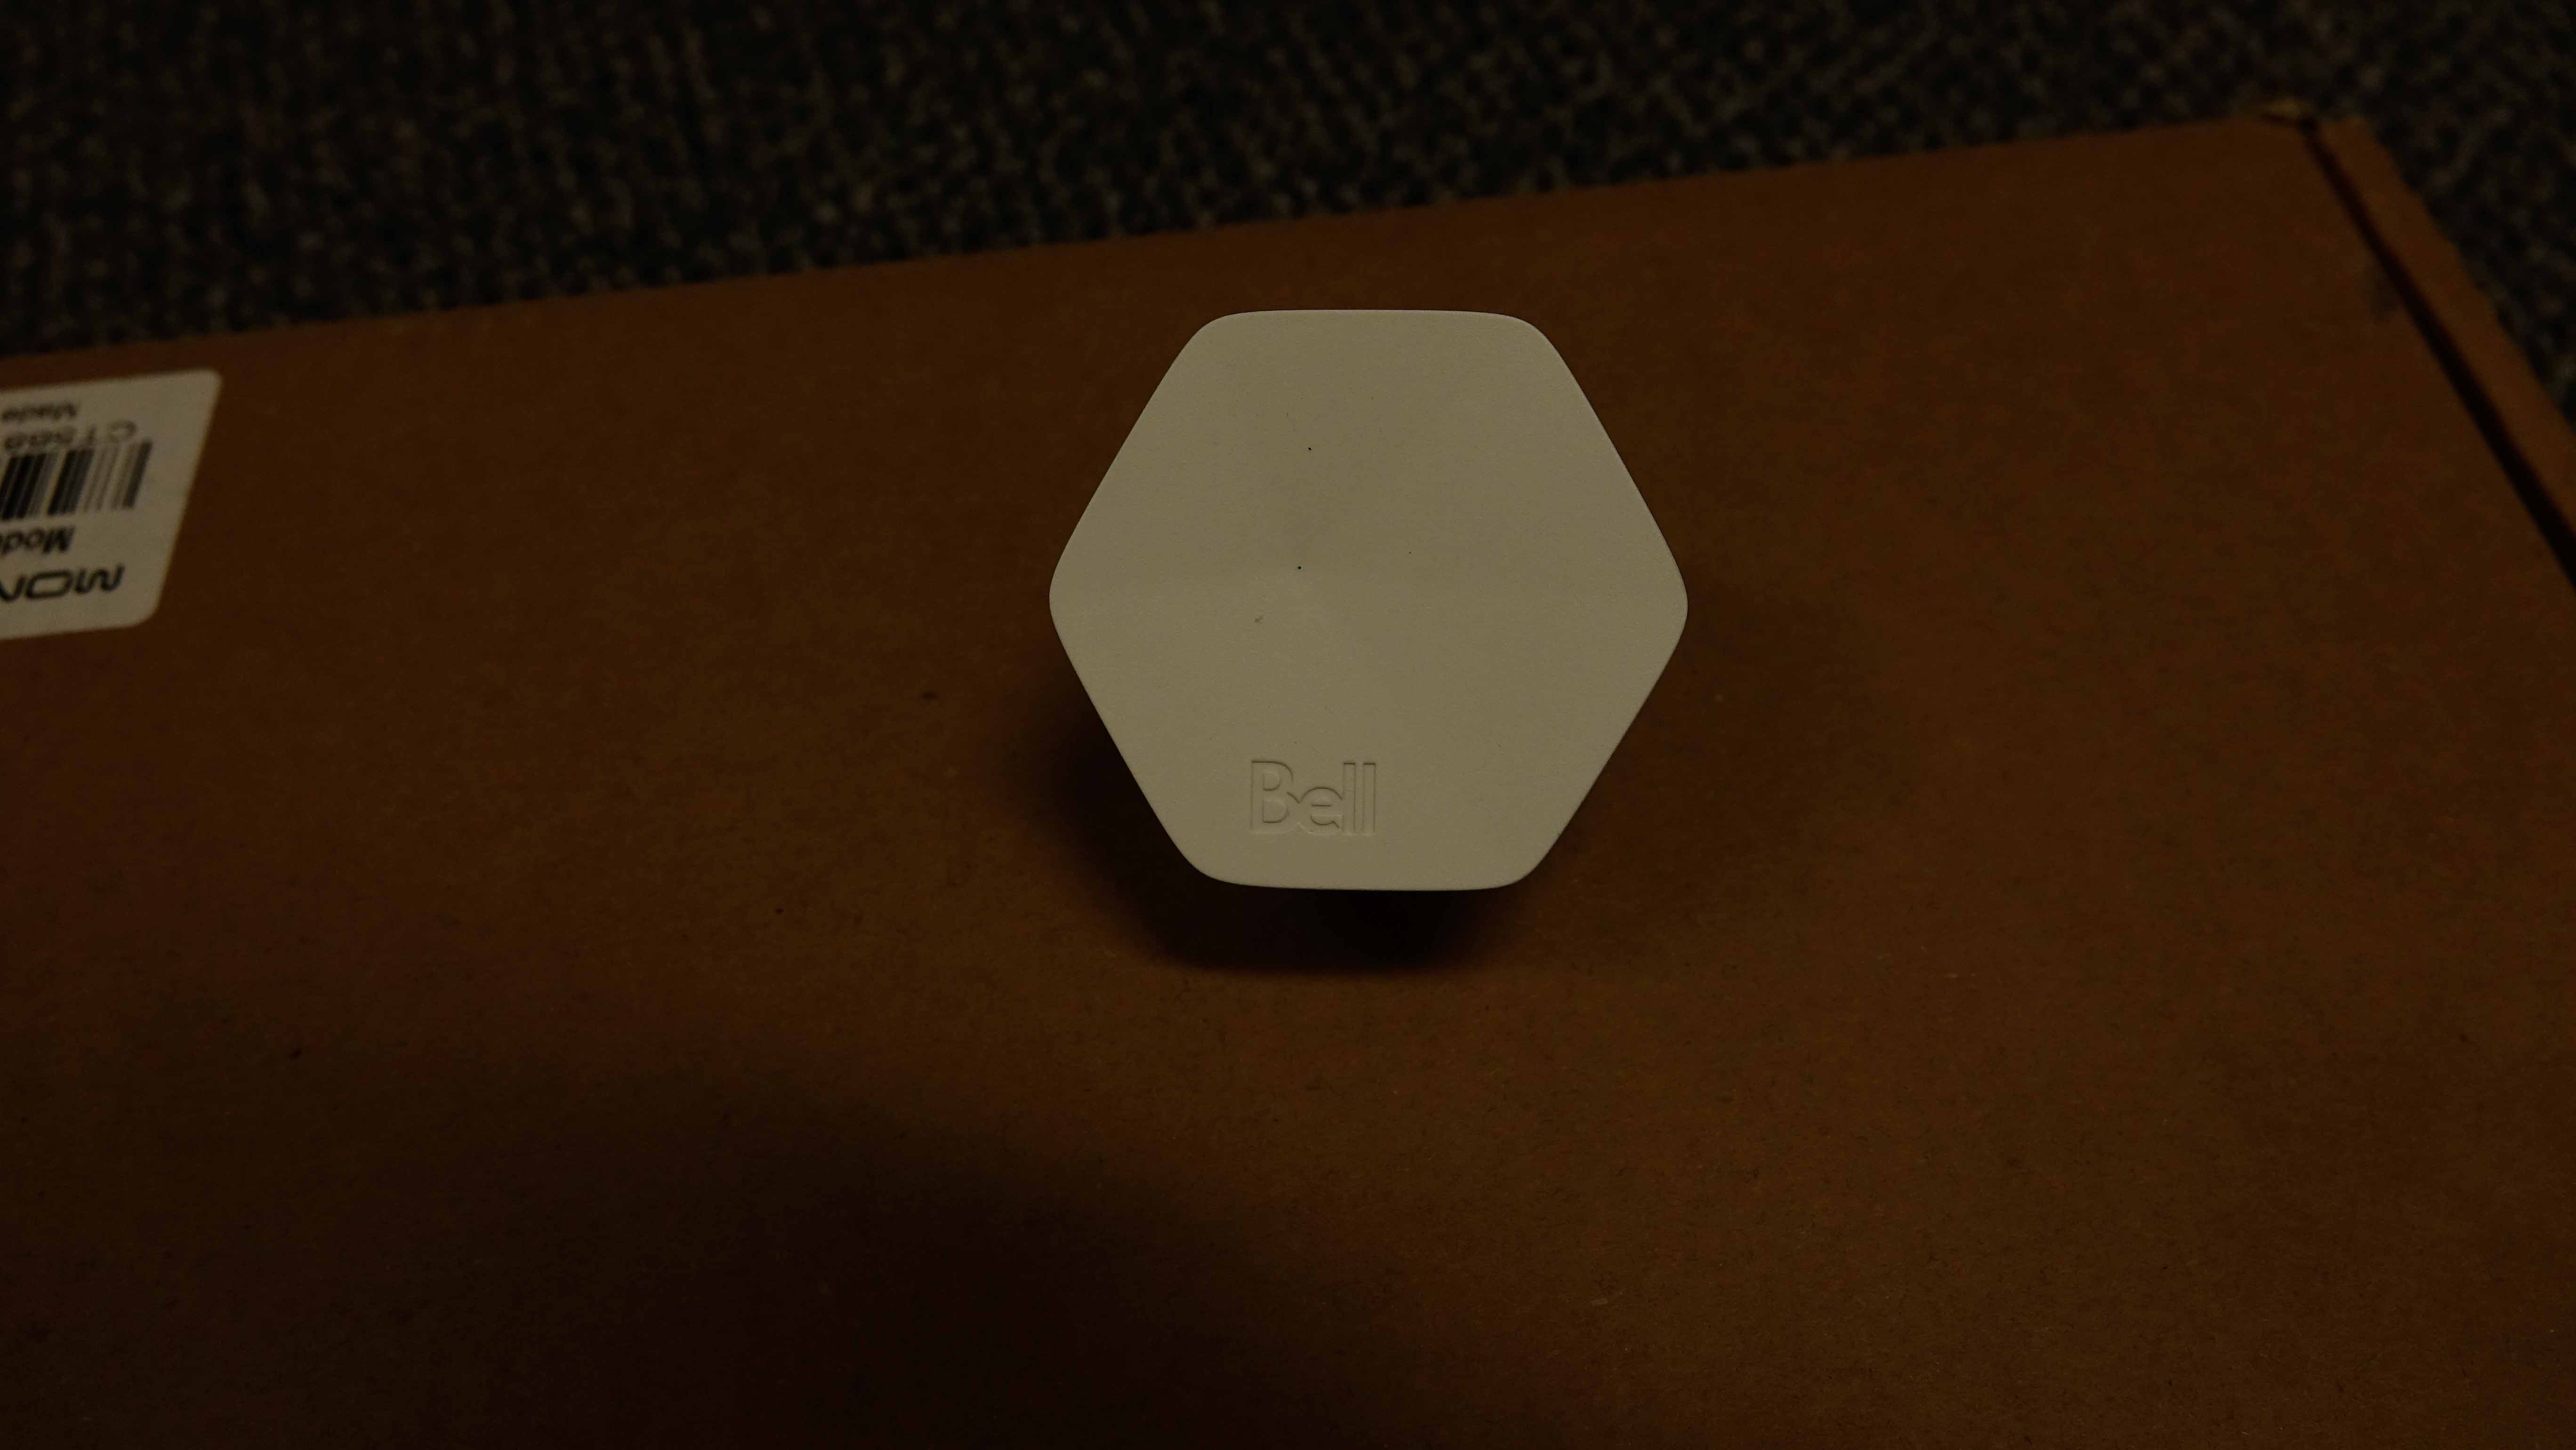pod: (1040, 302, 1702, 904)
